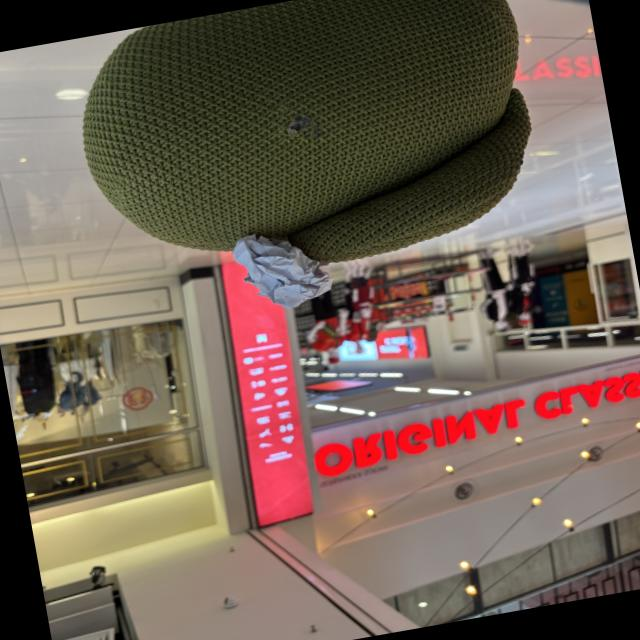crumpled_paper: (224, 216, 338, 324)
